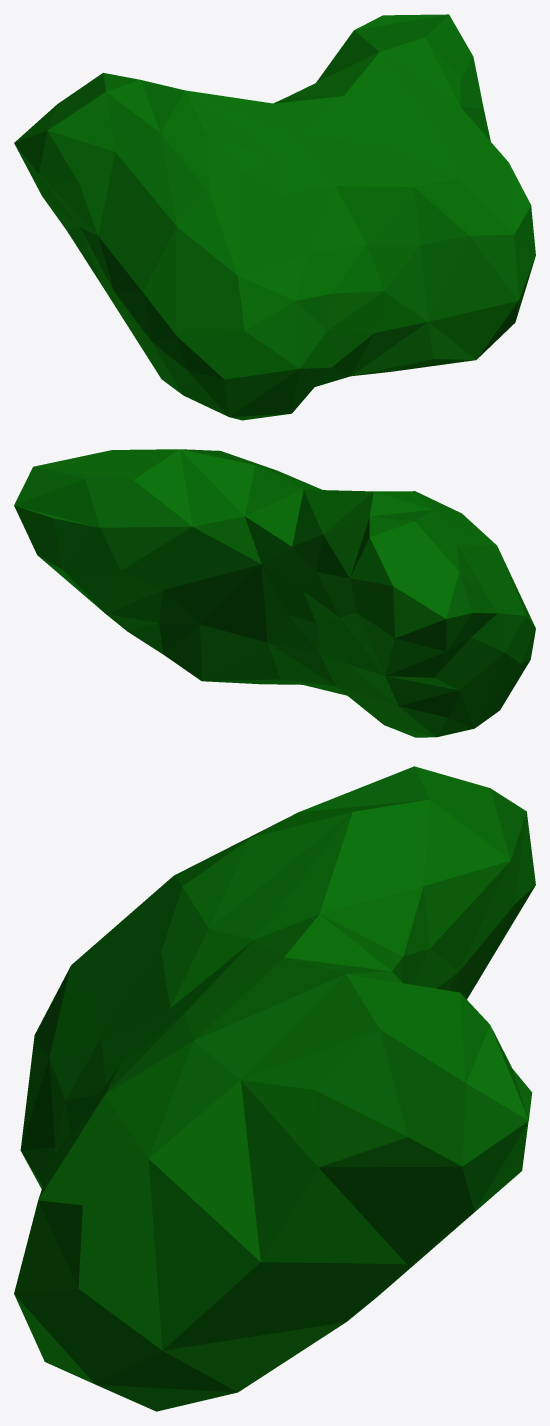
The model's file is 55-AM-anteromedial thalamic nucleus-('0.0000', '0.4980', '0.0000').obj.
3 renders of one model, top to bottom at view 1: azimuth 30°, elevation 25°; view 2: azimuth 150°, elevation 25°; view 3: azimuth 270°, elevation 25°, orthographic. The views are drawn at different scales.
Size of the model in its own units: 30.11 by 18.39 by 19.51.
